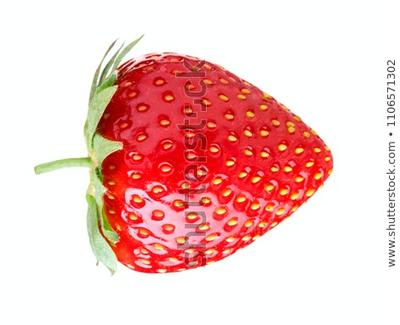strawberry: (0, 0, 400, 325)
